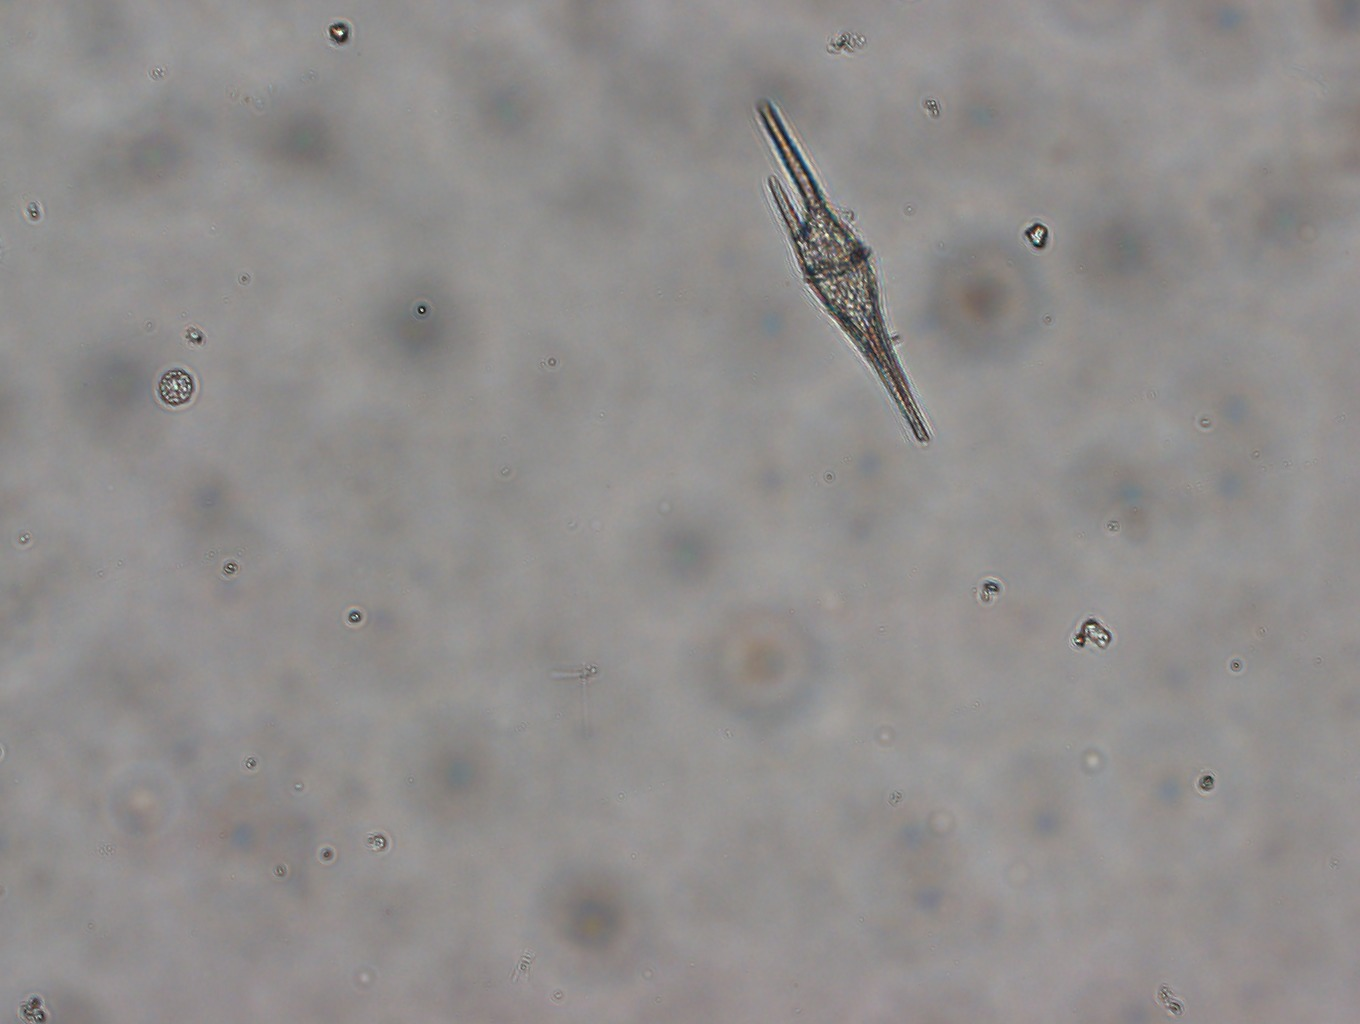ceratium furca: (743, 97, 939, 452)
